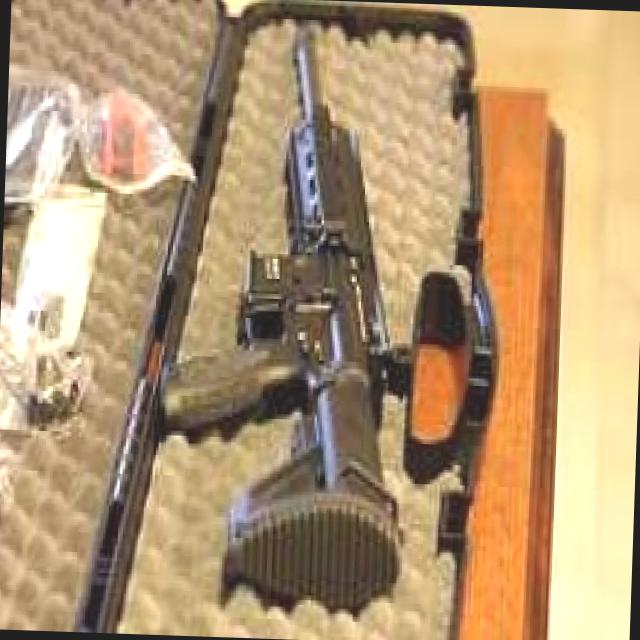long weapon: (210, 30, 440, 617)
